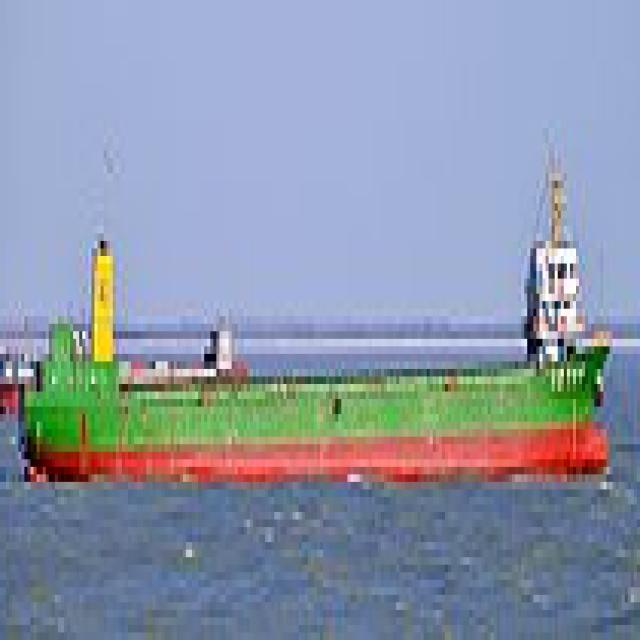Cargo: (18, 120, 619, 482)
